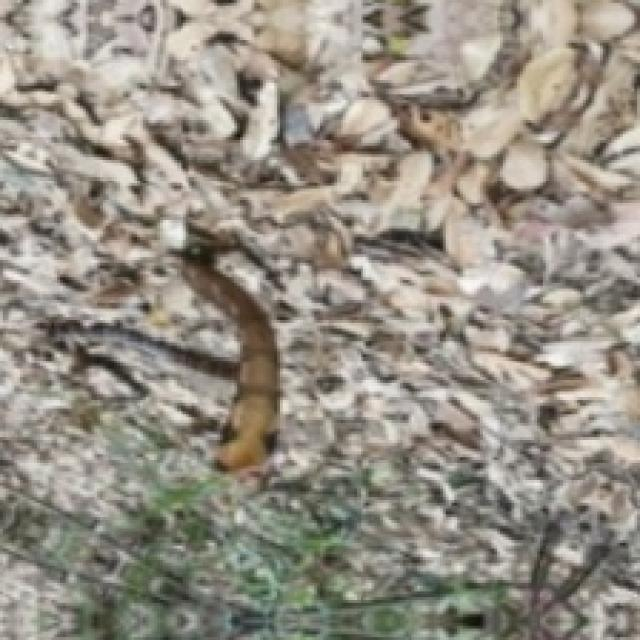king cobra: (180, 257, 277, 469)
